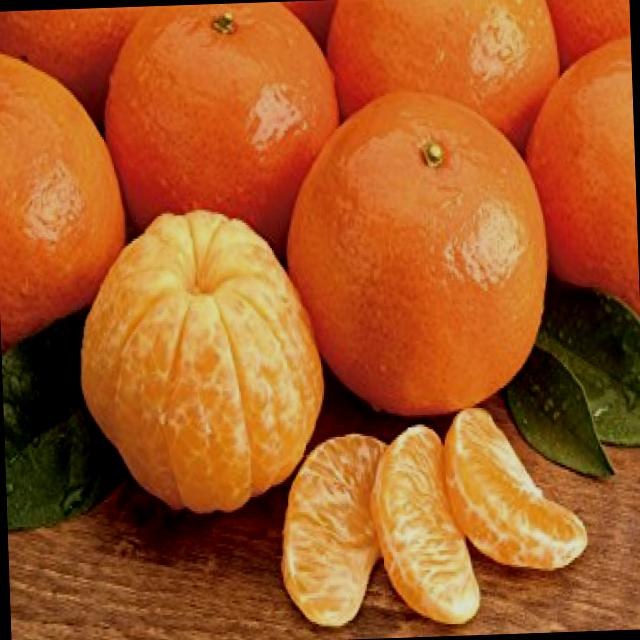orange: (286, 87, 570, 433), (92, 0, 355, 266), (320, 0, 576, 200), (0, 45, 131, 360), (522, 23, 640, 320)
